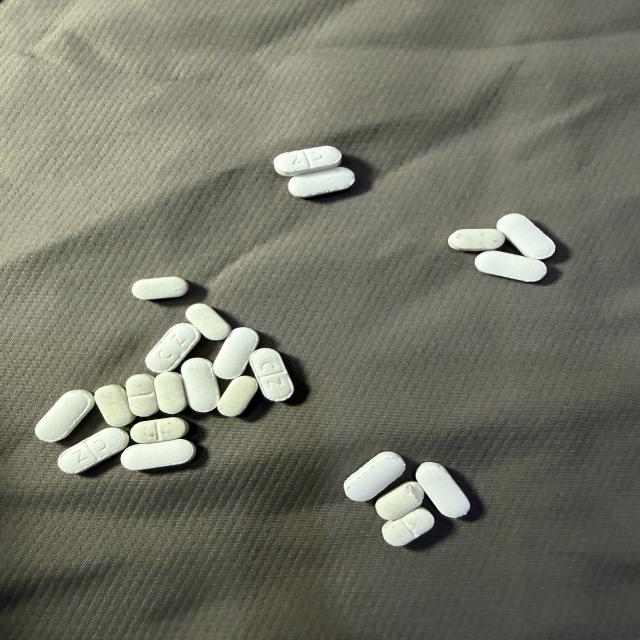pill: (58, 427, 129, 473), (35, 390, 94, 442), (416, 462, 470, 518), (344, 452, 405, 501), (146, 323, 200, 373), (497, 214, 555, 259), (121, 439, 195, 470), (250, 348, 293, 401), (214, 328, 258, 379), (475, 251, 546, 282), (181, 358, 219, 412), (274, 146, 341, 176), (289, 167, 355, 197), (382, 508, 434, 546), (376, 482, 424, 520), (95, 385, 135, 427), (218, 376, 258, 416), (186, 304, 230, 340), (130, 417, 188, 443), (155, 372, 187, 414), (126, 374, 158, 416), (132, 277, 188, 299), (448, 229, 504, 251)
